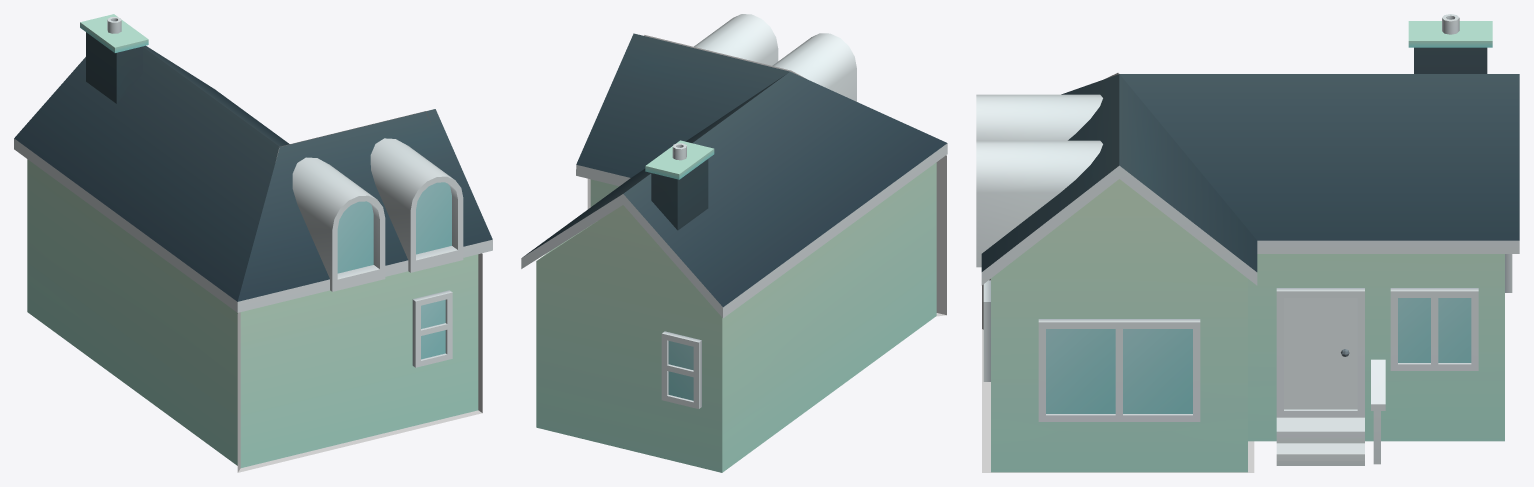
File: Asset_HouseB.glb
3 renders of one model, left to right at view 1: azimuth 30°, elevation 25°; view 2: azimuth 150°, elevation 25°; view 3: azimuth 270°, elevation 25°, orthographic. The views are drawn at different scales.
Parts seen in each view (by area): view 1: Mesh.073, Collsion.002; view 2: Mesh.073, Collsion.002; view 3: Mesh.073, Collsion.002.
Boxes of the visible parts, x1,y1,x2,y2 form: Mesh.073: (14,14,492,467); Collsion.002: (237,111,482,472); Mesh.073: (521,14,947,472); Collsion.002: (587,35,946,316); Mesh.073: (976,14,1519,472); Collsion.002: (982,73,1254,472).
Size of what is drawn, in the model's own units: 6.07 by 6.66 by 9.29.
Materials: 1 (1 with a texture image).
